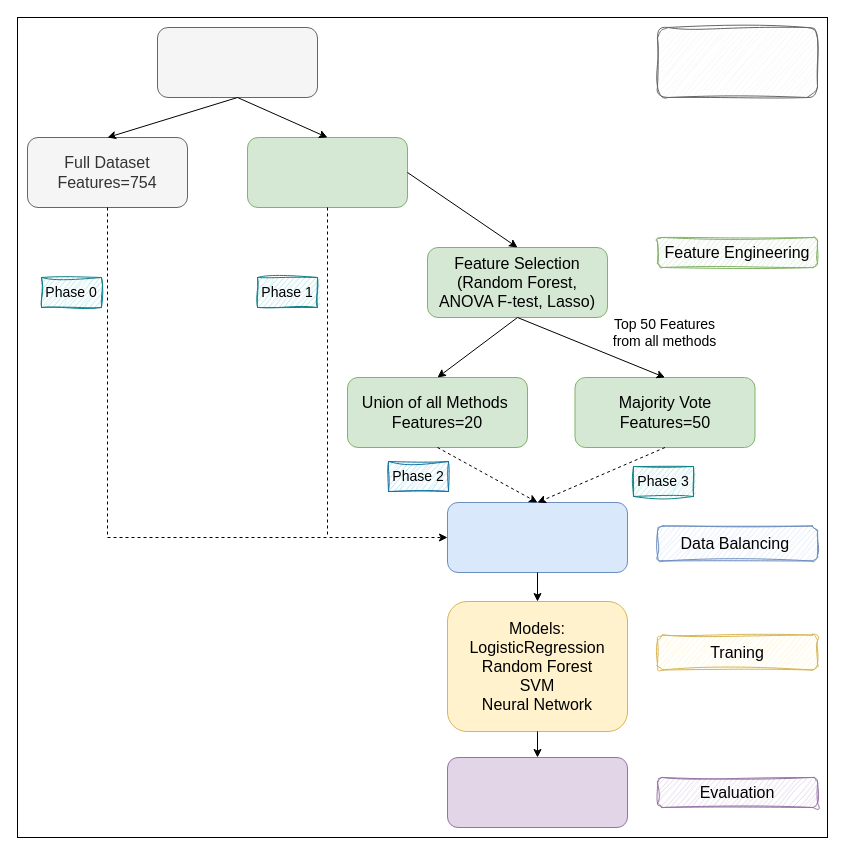
Image size: 845x855. Some labels were removed from this diagram. The centre of each missing label's shape, as x and y in pixels:
Data Preprocess (Data is clean and ready to use): the point at 737,62
Feature Reduction (Median of Subgroup) Features=92: the point at 327,172
Metrics: Accuracy, F1, Recall, Precision: the point at 537,792
PD Dataset Observations=756 Features=754: the point at 237,62
SMOTE: the point at 537,537
